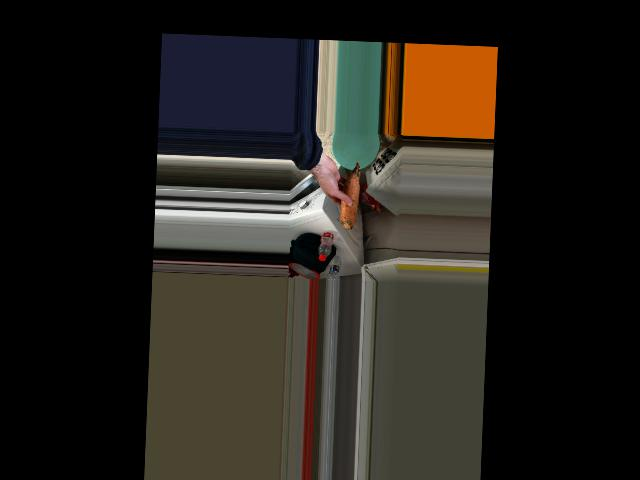sweet_potato: (334, 160, 365, 233)
